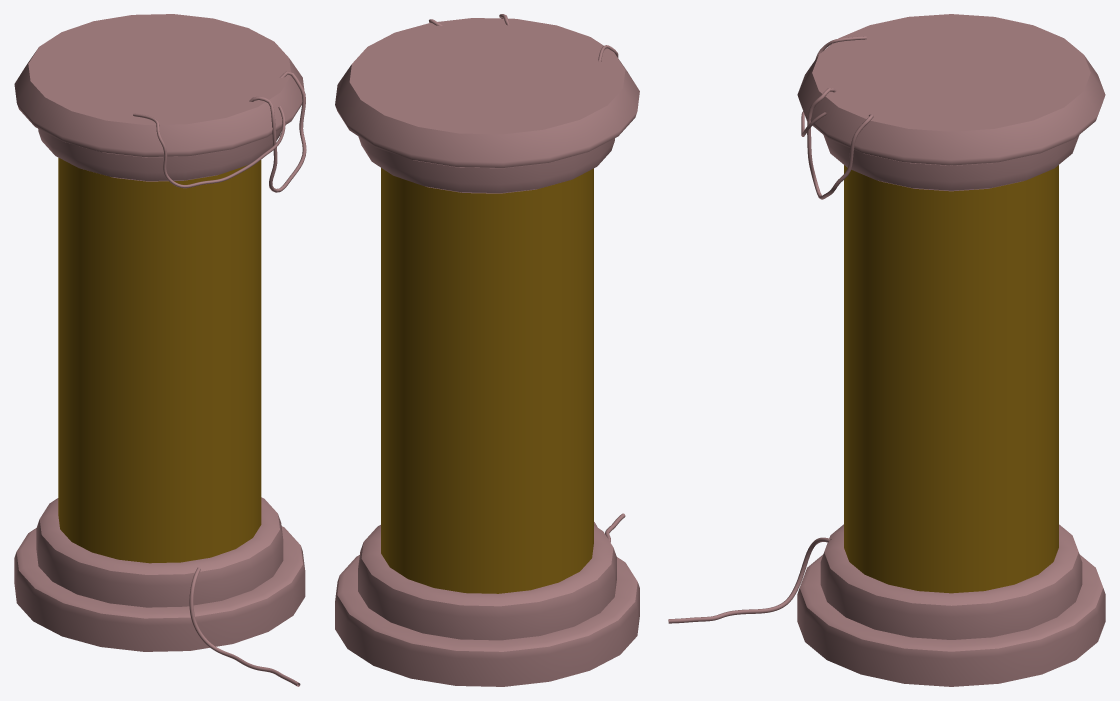
The model's file is Tubo_2.fbx.
3 views of the same model, side by side, from view 1: azimuth 30°, elevation 25°; view 2: azimuth 150°, elevation 25°; view 3: azimuth 270°, elevation 25° (orthographic). The views are drawn at different scales.
Parts seen in each view (by area): view 1: polySurface74, polySurface75, polySurface77, polySurface73, polySurface79, polySurface78; view 2: polySurface74, polySurface75, polySurface77; view 3: polySurface74, polySurface75, polySurface77, polySurface78, polySurface73.
Part boxes in pixels (left/top/right/bottom): polySurface74: left=58, top=157, right=261, bottom=563; polySurface75: left=14, top=14, right=304, bottom=181; polySurface77: left=14, top=497, right=305, bottom=651; polySurface73: left=249, top=71, right=306, bottom=192; polySurface79: left=133, top=106, right=285, bottom=188; polySurface78: left=189, top=567, right=300, bottom=686; polySurface74: left=381, top=168, right=593, bottom=593; polySurface75: left=335, top=18, right=639, bottom=193; polySurface77: left=335, top=525, right=639, bottom=686; polySurface74: left=844, top=165, right=1058, bottom=593; polySurface75: left=797, top=14, right=1105, bottom=191; polySurface77: left=797, top=524, right=1105, bottom=686; polySurface78: left=668, top=537, right=831, bottom=623; polySurface73: left=807, top=88, right=873, bottom=199.
Bounding box in the file's own units: 10.76 × 21.39 × 15.26.
